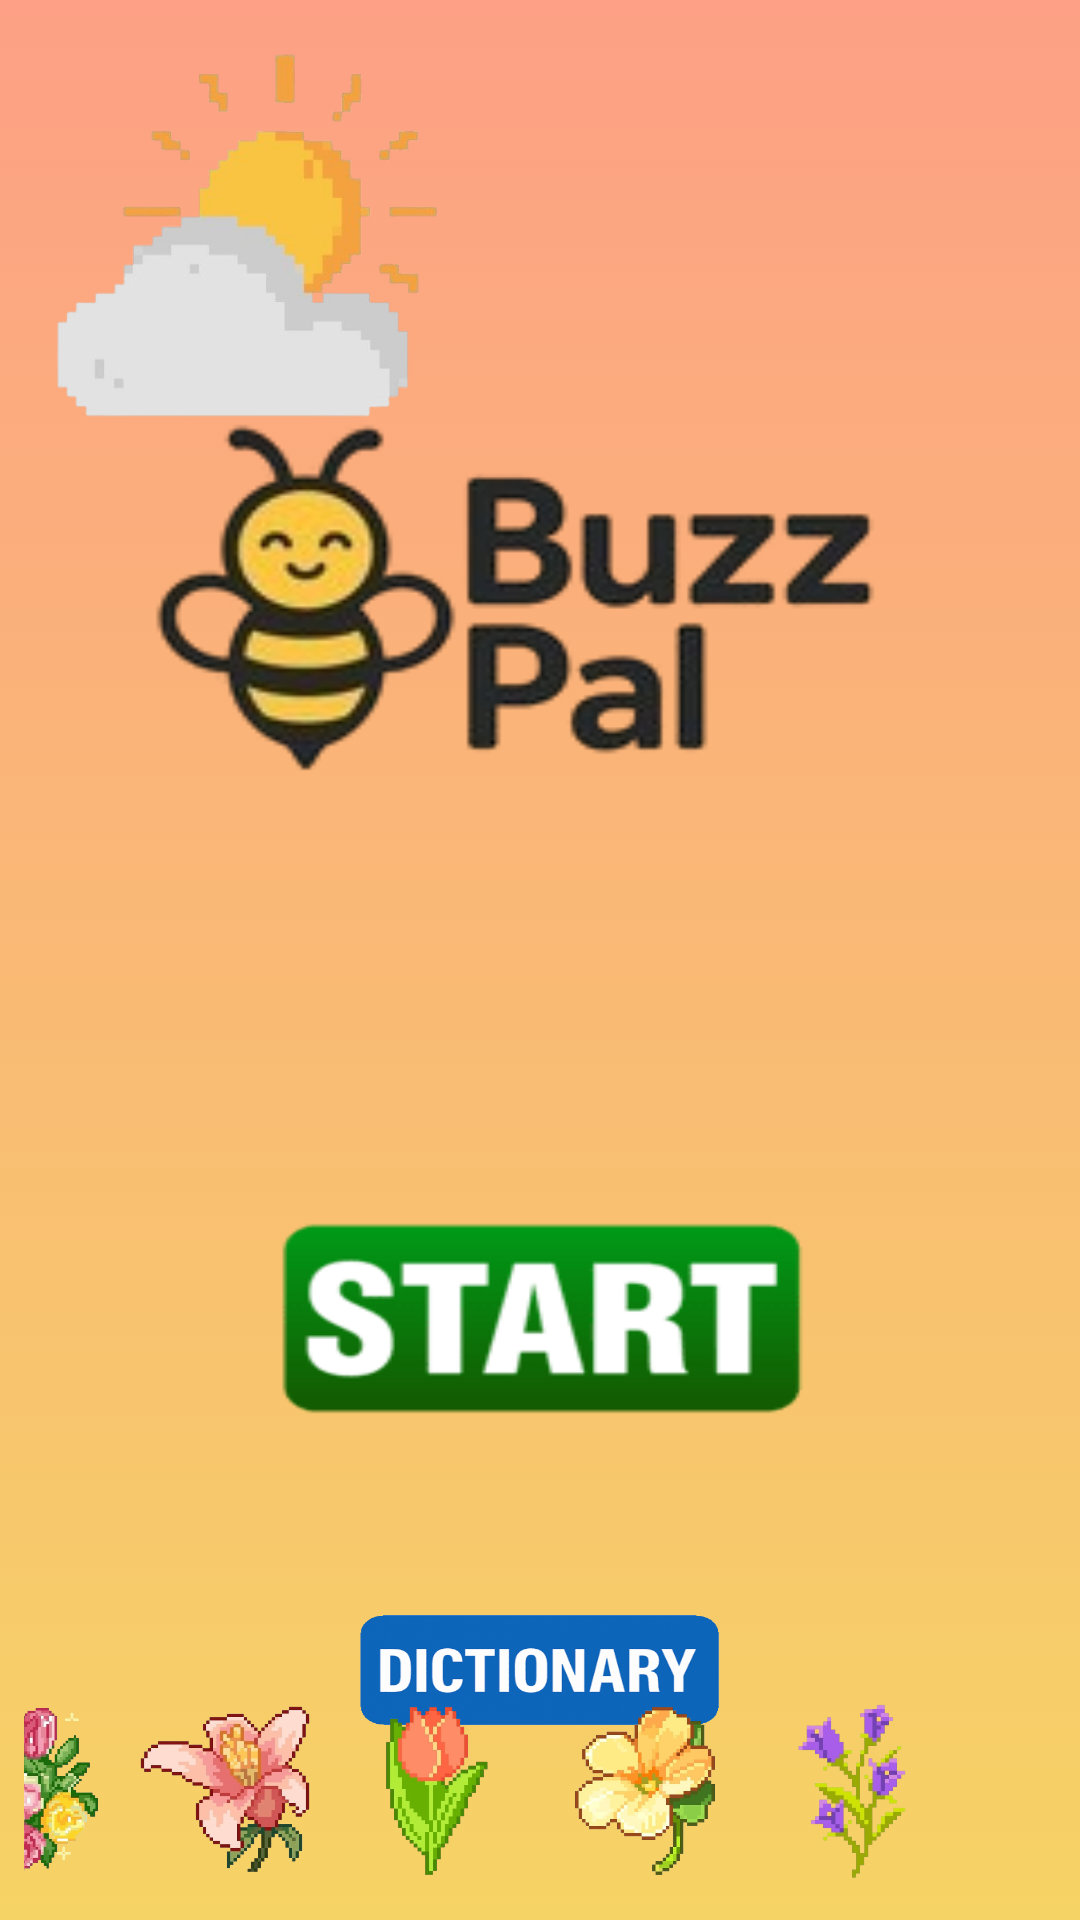

Where to tap for icons on this 1080px x 1920px app screen, as point (x, y):
orangeflower: point (450, 1780)
pinkflower: point (225, 1789)
purpleflower: point (851, 1791)
yellowflower: point (629, 1780)
